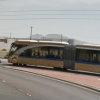Bus: (7, 35, 100, 81)
